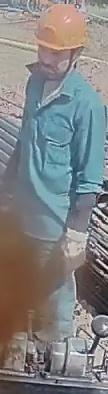gloves: (55, 225, 88, 278)
helmet: (34, 3, 86, 51)
vest: (16, 63, 106, 244)
